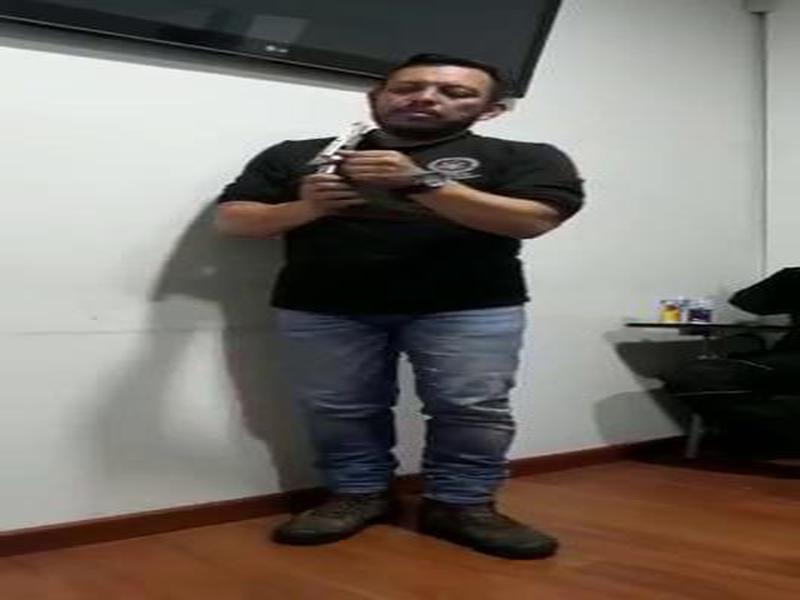Revolver: (295, 102, 375, 210)
